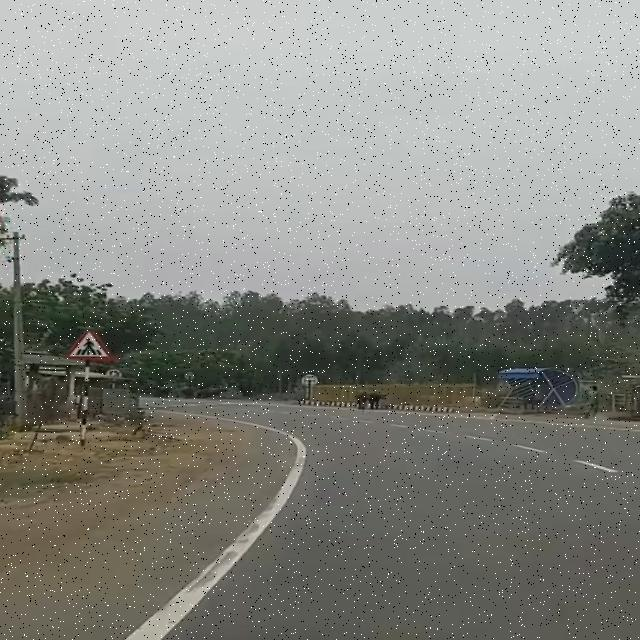No_overtaking: (107, 369, 122, 379)
Pedestrain_crossing: (67, 327, 115, 361)
